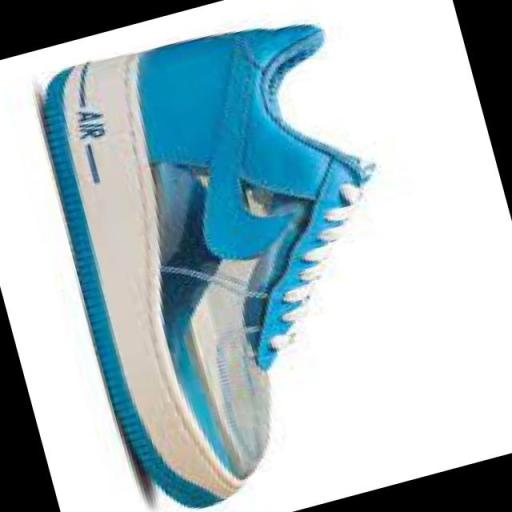Nike: (148, 35, 310, 274)
